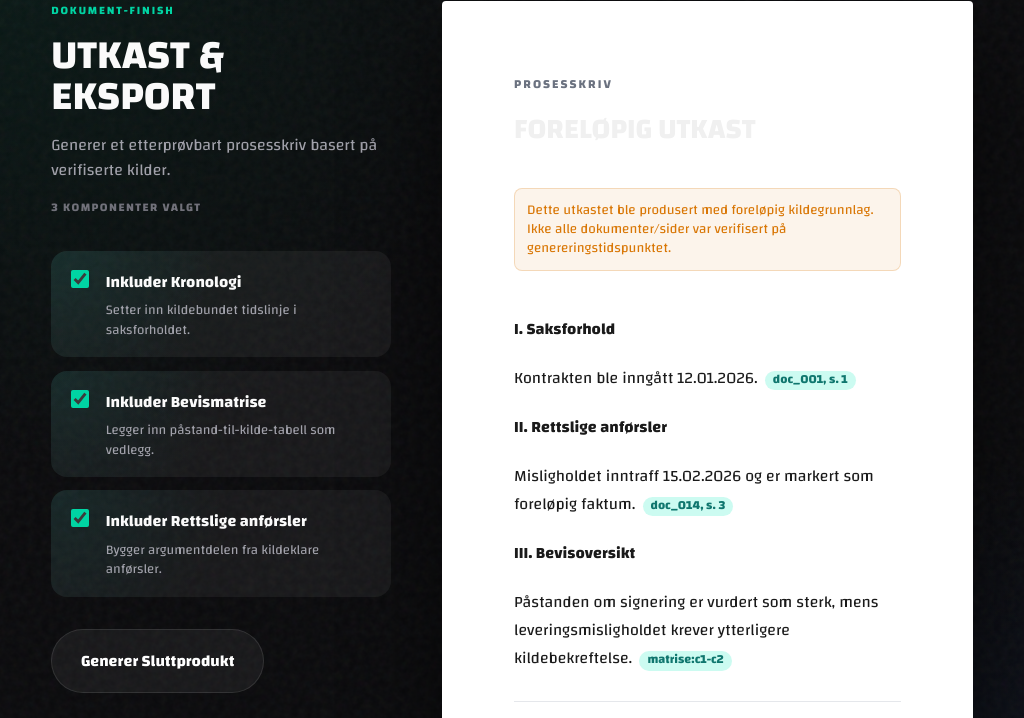
Scenario: UtkastModul › enforces warning banner and preliminary export confirmation in preliminary mode
Check: the text "Dette utkastet ble produsert med foreløpig kildegrunnlag" is shown, box [527,198,874,261]
What coordinates should you click on to do the following:
click the button "Generer Sluttprodukt"
I would click on:
 (158, 661)
Its box is [51,629,264,693].
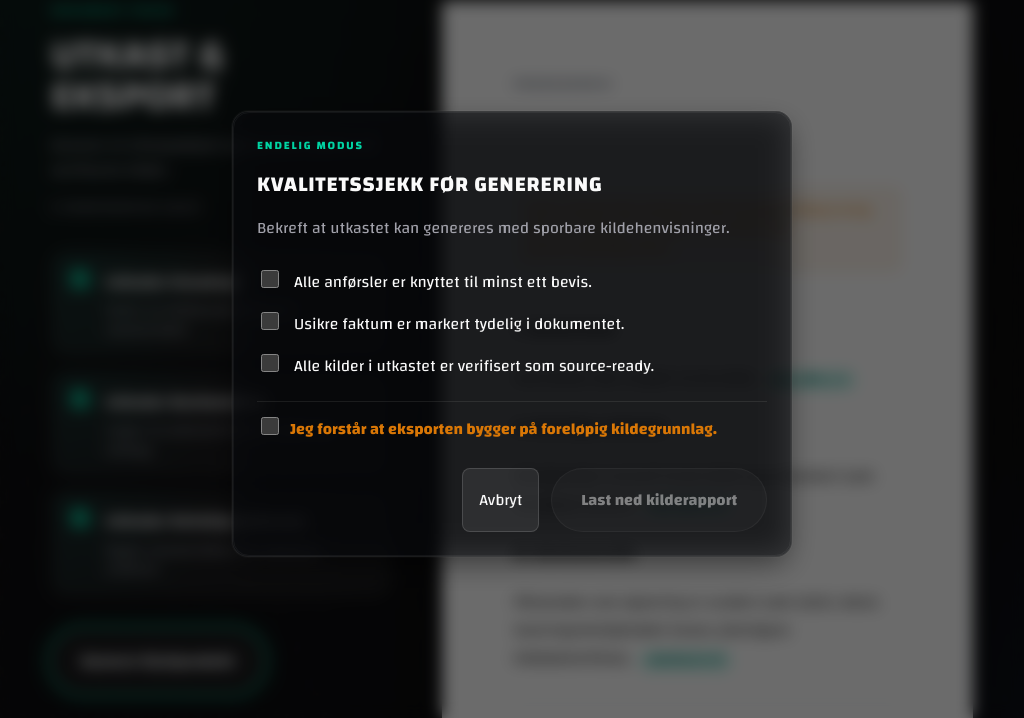
What coordinates should you click on to do the following:
click the checkbox labelled "Alle anførsler er knyttet til minst ett bevis."
I would click on:
 (270, 279)
Its box is [261,270,279,288].
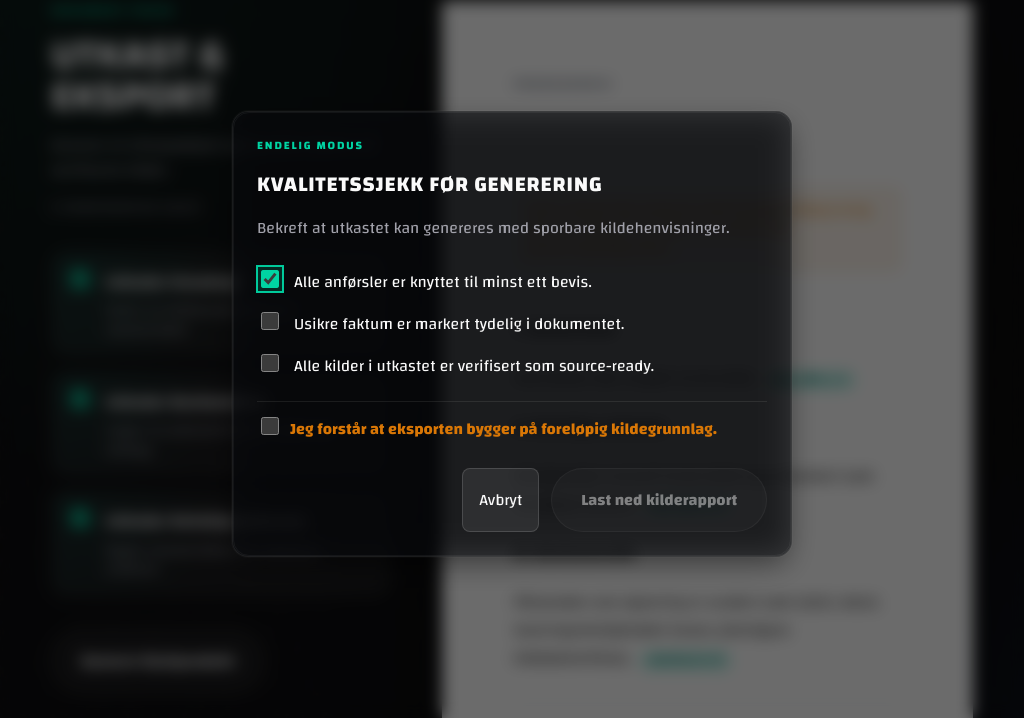
What coordinates should you click on to do the following:
click the checkbox labelled "Usikre faktum er markert tydelig i dokumentet."
I would click on:
 (270, 321)
Its box is [261,312,279,330].
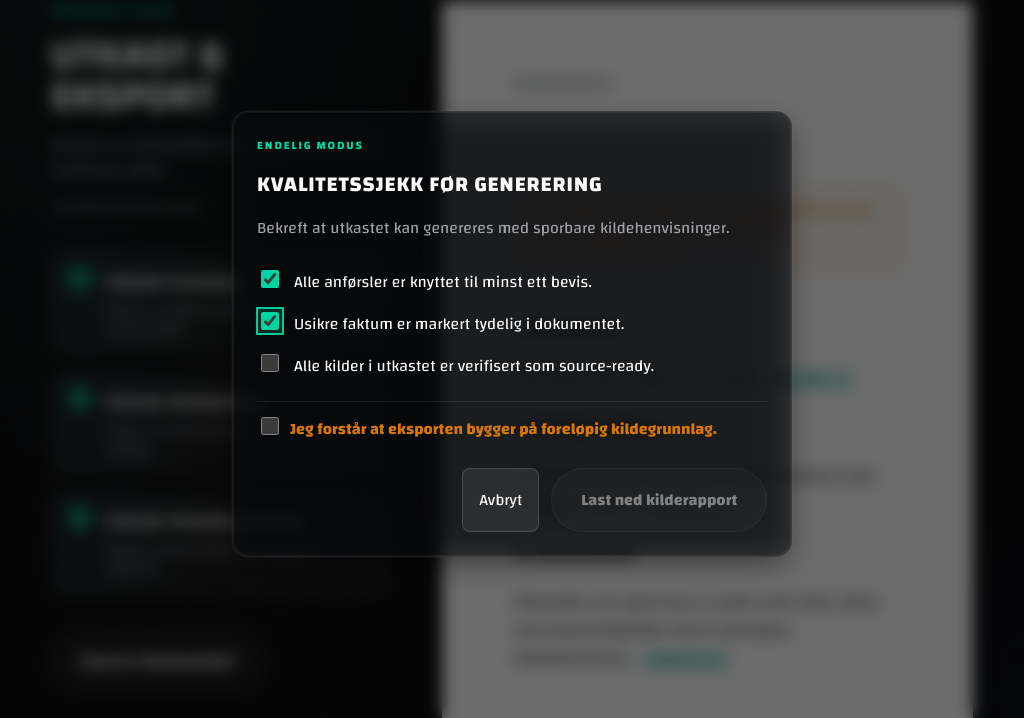
What coordinates should you click on to do the following:
click the checkbox labelled "Alle kilder i utkastet er verifisert som source-ready."
I would click on:
 (270, 363)
Its box is [261,354,279,372].
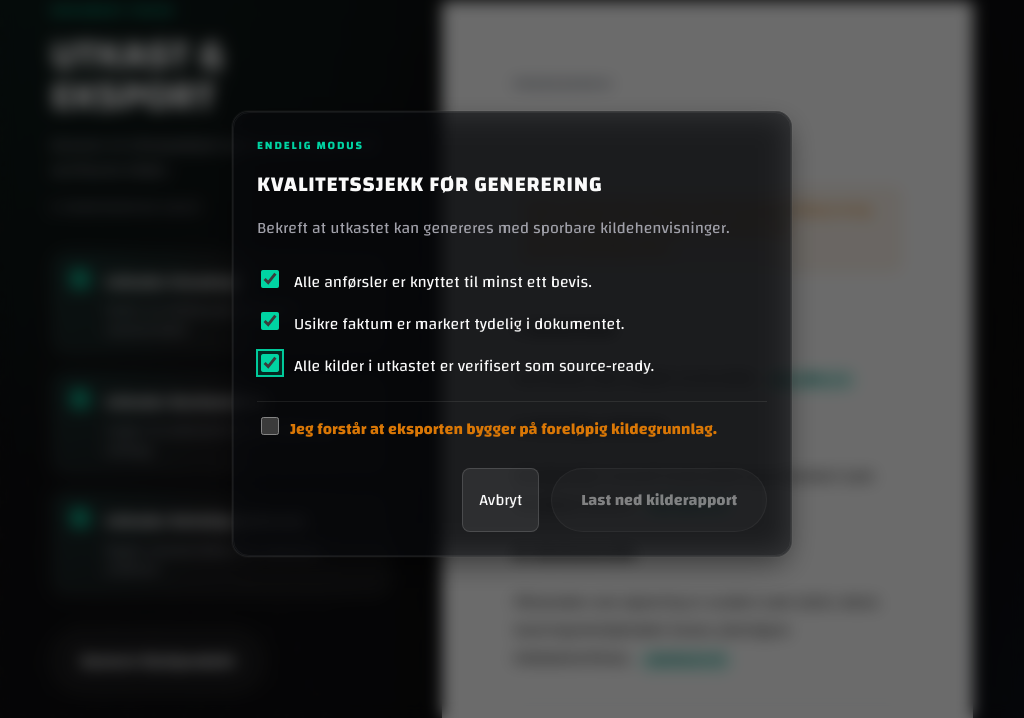
Check: the button "Last ned kilderapport" is disabled, box [552,468,767,532]
What coordinates should you click on to do the following:
click the checkbox labelled "Jeg forstår at eksporten bygger på foreløpig kildegrunnlag."
I would click on:
 (270, 426)
Its box is [261,417,279,435].
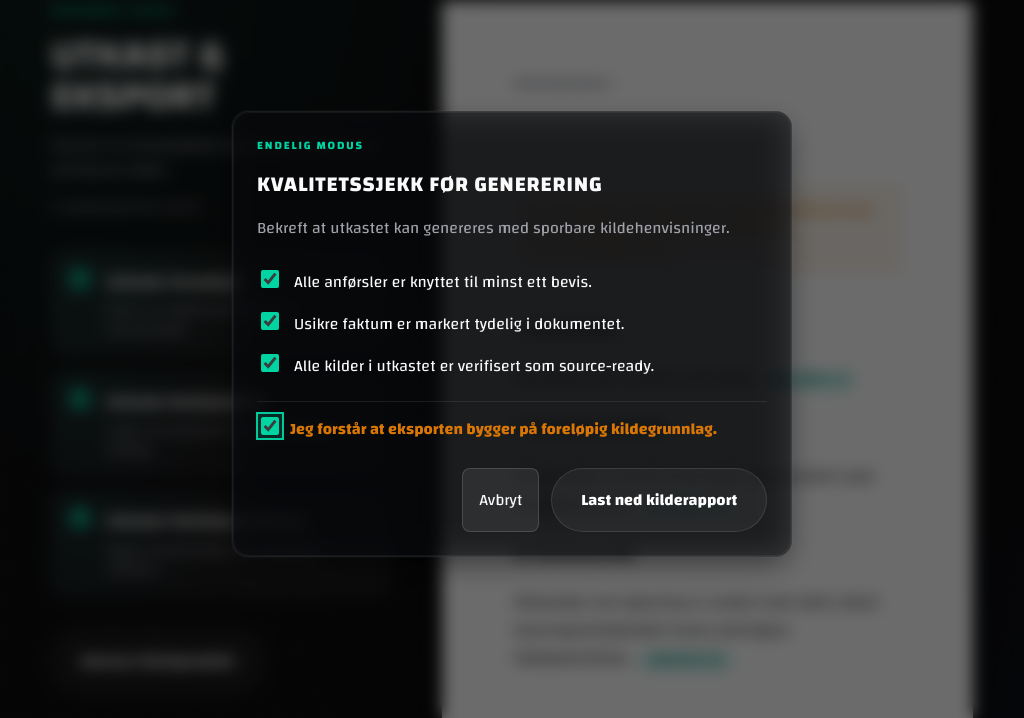
Check: the button "Last ned kilderapport" is enabled
What coordinates should you click on to do the following:
click the button "Last ned kilderapport"
I would click on:
 (659, 500)
Its box is [552,468,767,532].
(page scrolled)
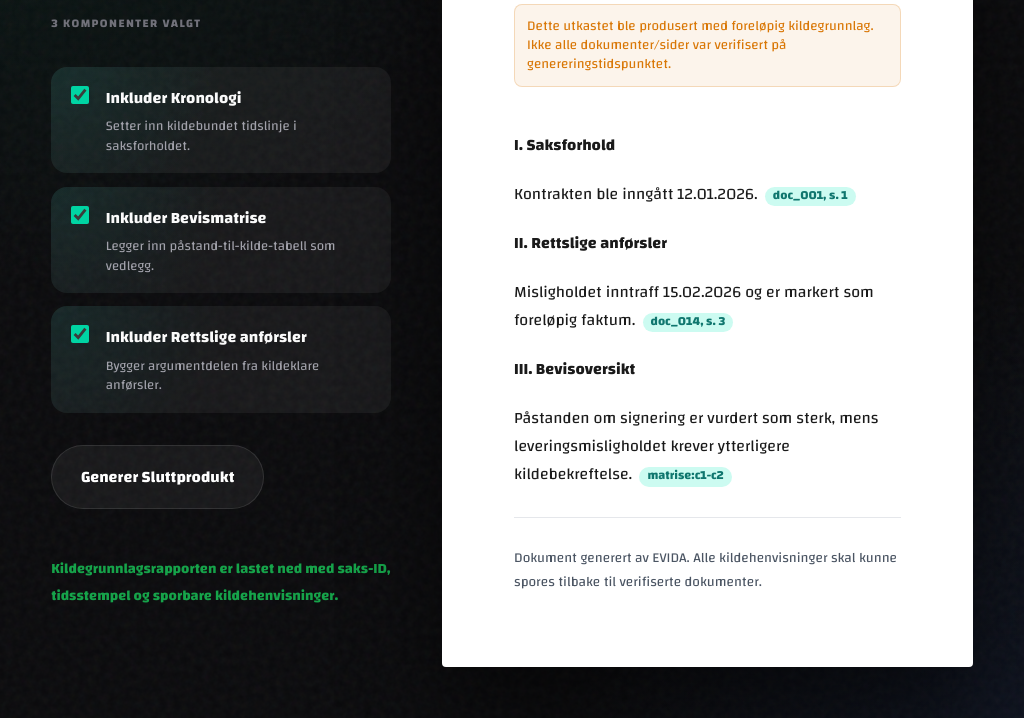
Check: the text "Kildegrunnlagsrapporten er lastet ned" is shown, box [51,555,391,609]
